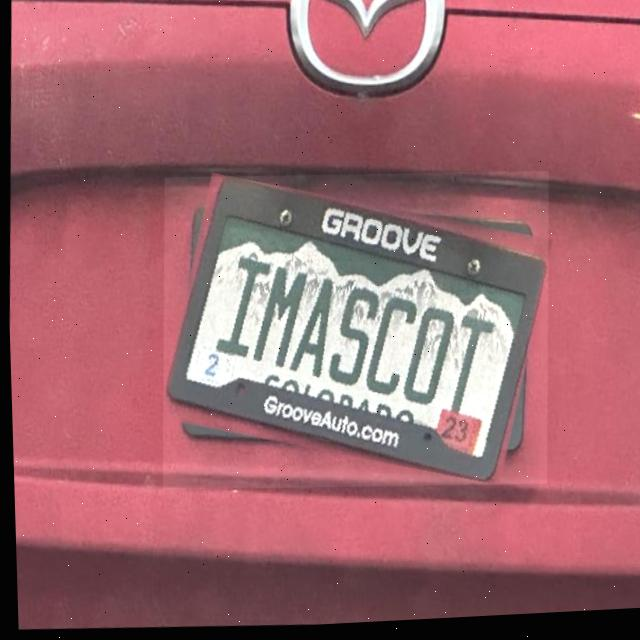LicensePlate: (160, 178, 546, 489)
